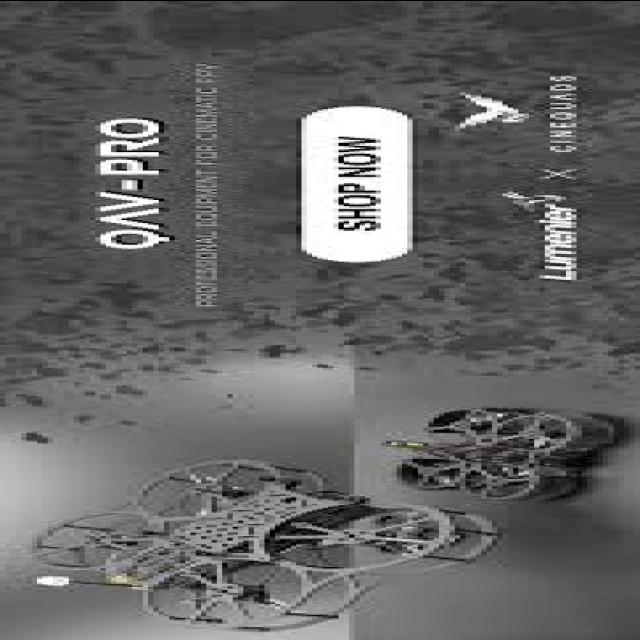drone: (38, 452, 502, 634), (380, 392, 627, 502)
